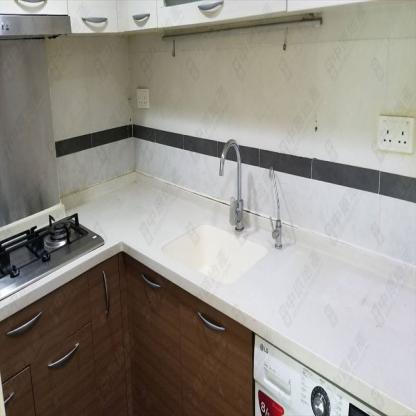Cupboard: (0, 250, 254, 414), (0, 0, 359, 32)
Exhaust Hood: (0, 12, 70, 39)
Faucet: (219, 138, 248, 231)
Sink: (163, 223, 270, 287)
Stove: (0, 211, 105, 303)
Washing Machine: (253, 332, 385, 415)
